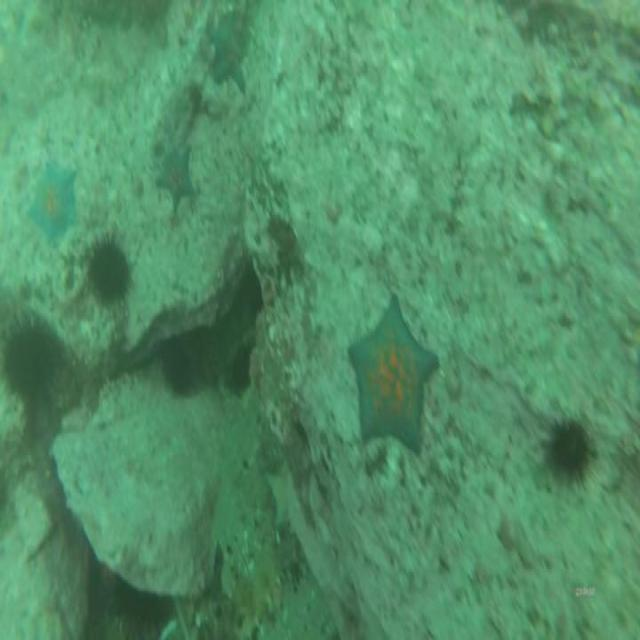echinus: (4, 327, 58, 387), (548, 422, 588, 476), (88, 248, 127, 300), (227, 346, 254, 392), (162, 349, 189, 392)
holothurian: (235, 550, 278, 640)
starfish: (348, 294, 436, 455), (26, 162, 76, 238), (213, 22, 247, 90), (156, 152, 194, 207)
